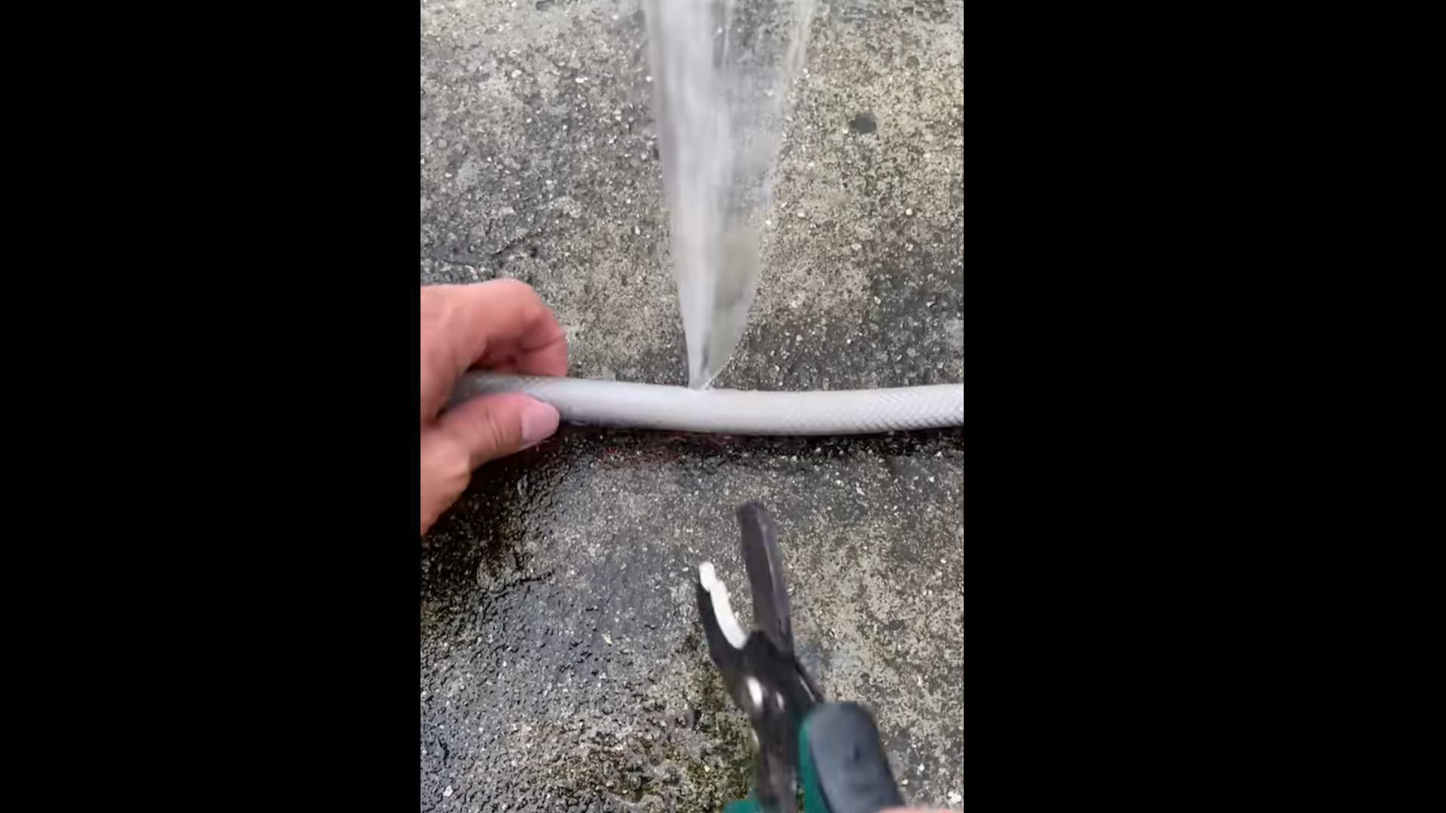pipe burst: (640, 0, 825, 406)
